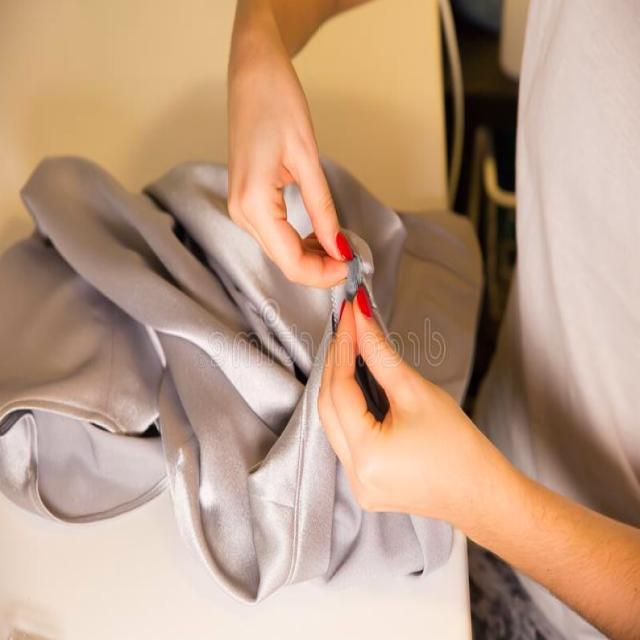clothes: (6, 183, 201, 536), (495, 0, 640, 442), (179, 321, 334, 582), (338, 200, 468, 349)
